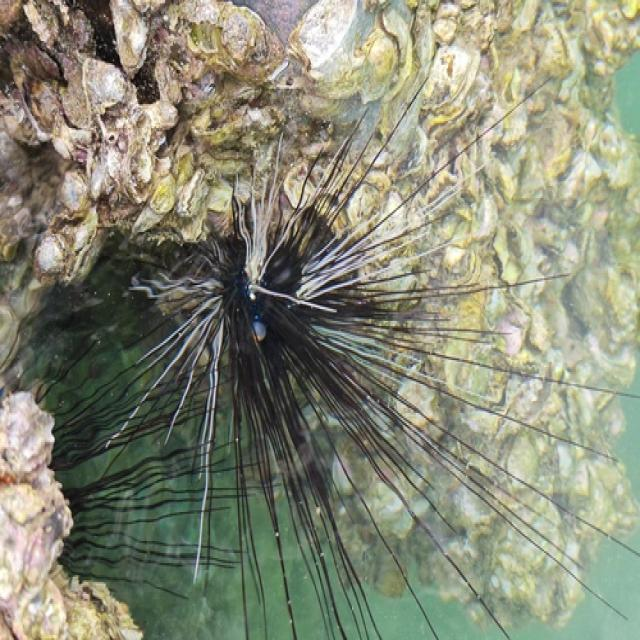Urchin: (101, 73, 640, 640)
